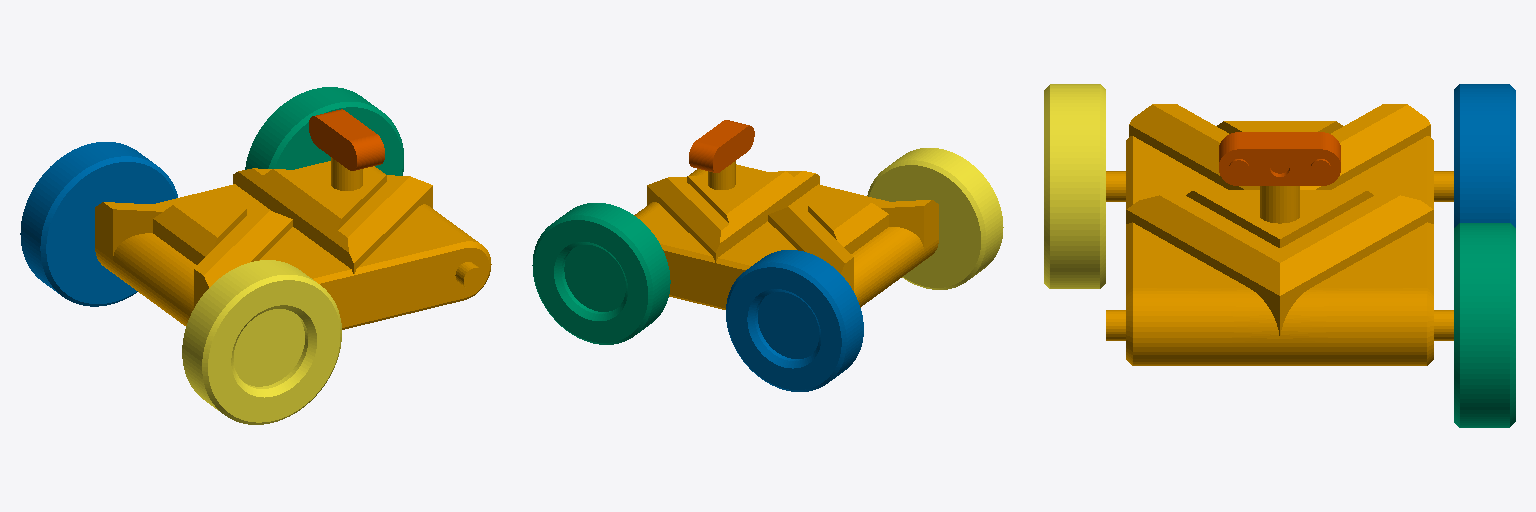
The robot description file, URDF, robot "amr":
<?xml version='1.0' encoding='utf-8'?>
<robot name="amr">
    <link name="base_link">
        <inertial>
            <origin xyz="-0.004351267108603693 -2.5010522091502847e-16 0.008281830778488642" rpy="0.0 0.0 0.0" />
            <mass value="0.9360217886690454" />
            <inertia ixx="0.009459041504582138" iyy="0.013956118845845198" izz="0.020474384137866695" ixy="5.096082182149493e-17" iyz="6.777214071700385e-17" ixz="0.00014505282040201085" />
        </inertial>
        <visual name="base_link_visual">
            <origin xyz="0.0 0.0 0.0" rpy="0.0 0.0 0.0" />
            <geometry>
                <mesh filename="package://amr_description/meshes/base_link.stl" scale="0.001 0.001 0.001" />
            </geometry>
        </visual>
        <collision name="base_link_collision">
            <origin xyz="0.0 0.0 0.0" rpy="0.0 0.0 0.0" />
            <geometry>
                <mesh filename="package://amr_description/meshes/base_link.stl" scale="0.001 0.001 0.001" />
            </geometry>
        </collision>
    </link>
    <link name="f_wheel_r">
        <inertial>
            <origin xyz="-1.7763568394002505e-17 -4.440892098500626e-18 0.026235066114433145" rpy="0.0 -0.0 0.0" />
            <mass value="1.3127916188565099" />
            <inertia ixx="0.003348709408788453" iyy="0.0033487094087883557" izz="0.0060726776588351" ixy="-1.6263032587282567e-18" iyz="2.710505431213761e-18" ixz="0.0" />
        </inertial>
        <visual name="f_wheel_r_visual">
            <origin xyz="-0.15 0.0025 -0.15937500000000002" rpy="-1.5707963267948966 -0.0 0.0" />
            <geometry>
                <mesh filename="package://amr_description/meshes/f_wheel_r.stl" scale="0.001 0.001 0.001" />
            </geometry>
        </visual>
        <collision name="f_wheel_r_collision">
            <origin xyz="-0.15 0.0025 -0.15937500000000002" rpy="-1.5707963267948966 -0.0 0.0" />
            <geometry>
                <mesh filename="package://amr_description/meshes/f_wheel_r.stl" scale="0.001 0.001 0.001" />
            </geometry>
        </collision>
    </link>
    <link name="f_wheel_l">
        <inertial>
            <origin xyz="-3.552713678800501e-17 1.6653345369377347e-17 0.02623506611443311" rpy="0.0 -0.0 0.0" />
            <mass value="1.3127916188565103" />
            <inertia ixx="0.0033487094087884667" iyy="0.0033487094087883695" izz="0.00607267765883511" ixy="-1.3010426069826053e-18" iyz="-4.336808689942018e-19" ixz="-1.3877787807814457e-17" />
        </inertial>
        <visual name="f_wheel_l_visual">
            <origin xyz="-0.15 -0.0025 -0.15937500000000002" rpy="1.5707963267948966 -0.0 0.0" />
            <geometry>
                <mesh filename="package://amr_description/meshes/f_wheel_l.stl" scale="0.001 0.001 0.001" />
            </geometry>
        </visual>
        <collision name="f_wheel_l_collision">
            <origin xyz="-0.15 -0.0025 -0.15937500000000002" rpy="1.5707963267948966 -0.0 0.0" />
            <geometry>
                <mesh filename="package://amr_description/meshes/f_wheel_l.stl" scale="0.001 0.001 0.001" />
            </geometry>
        </collision>
    </link>
    <link name="b_wheel_r">
        <inertial>
            <origin xyz="1.7763568394002505e-17 -1.6653345369377347e-17 0.026235066114433145" rpy="0.0 -0.0 0.0" />
            <mass value="1.31279161885651" />
            <inertia ixx="0.0033487094087884667" iyy="0.0033487094087883695" izz="0.006072677658835093" ixy="-2.6020852139652106e-18" iyz="4.336808689942018e-19" ixz="6.938893903907228e-18" />
        </inertial>
        <visual name="b_wheel_r_visual">
            <origin xyz="0.15 0.0025 -0.15937500000000002" rpy="-1.5707963267948966 -0.0 0.0" />
            <geometry>
                <mesh filename="package://amr_description/meshes/b_wheel_r.stl" scale="0.001 0.001 0.001" />
            </geometry>
        </visual>
        <collision name="b_wheel_r_collision">
            <origin xyz="0.15 0.0025 -0.15937500000000002" rpy="-1.5707963267948966 -0.0 0.0" />
            <geometry>
                <mesh filename="package://amr_description/meshes/b_wheel_r.stl" scale="0.001 0.001 0.001" />
            </geometry>
        </collision>
    </link>
    <link name="b_wheel_l">
        <inertial>
            <origin xyz="1.7763568394002505e-17 2.997602166487923e-17 0.026235066114433145" rpy="0.0 -0.0 0.0" />
            <mass value="1.31279161885651" />
            <inertia ixx="0.0033487094087884736" iyy="0.0033487094087883557" izz="0.0060726776588351065" ixy="-1.0842021724855044e-19" iyz="2.2768245622195593e-18" ixz="0.0" />
        </inertial>
        <visual name="b_wheel_l_visual">
            <origin xyz="0.15 -0.0025 -0.15937500000000002" rpy="1.5707963267948966 -0.0 0.0" />
            <geometry>
                <mesh filename="package://amr_description/meshes/b_wheel_l.stl" scale="0.001 0.001 0.001" />
            </geometry>
        </visual>
        <collision name="b_wheel_l_collision">
            <origin xyz="0.15 -0.0025 -0.15937500000000002" rpy="1.5707963267948966 -0.0 0.0" />
            <geometry>
                <mesh filename="package://amr_description/meshes/b_wheel_l.stl" scale="0.001 0.001 0.001" />
            </geometry>
        </collision>
    </link>
    <link name="camera_link">
        <inertial>
            <origin xyz="0.000784181248604554 -1.5090743243271368e-13 0.018750000000000037" rpy="0.0 -0.0 0.0" />
            <mass value="0.03705472598311712" />
            <inertia ixx="4.725459659822421e-05" iyy="1.3979668961784848e-05" izz="4.822081110235731e-05" ixy="8.065807004281012e-17" iyz="-8.66151594899114e-21" ixz="0.0" />
        </inertial>
        <visual name="camera_link_visual">
            <origin xyz="-0.07187533333333333 1.1102230246251566e-18 -0.11" rpy="0.0 -0.0 0.0" />
            <geometry>
                <mesh filename="package://amr_description/meshes/camera_link.stl" scale="0.001 0.001 0.001" />
            </geometry>
        </visual>
        <collision name="camera_link_collision">
            <origin xyz="-0.07187533333333333 1.1102230246251566e-18 -0.11" rpy="0.0 -0.0 0.0" />
            <geometry>
                <mesh filename="package://amr_description/meshes/camera_link.stl" scale="0.001 0.001 0.001" />
            </geometry>
        </collision>
    </link>
    <link name="lidar_link">
        <inertial>
            <origin xyz="-3.335866296317086e-17 6.004559333370755e-17 0.015000000000000045" rpy="0.0 -0.0 0.0" />
            <mass value="0.33441151294791577" />
            <inertia ixx="0.00029211638344078025" iyy="0.00029211638344079304" izz="0.00048586532053086567" ixy="8.031975085032165e-19" iyz="-7.083755804160312e-19" ixz="9.091749575418355e-19" />
        </inertial>
        <visual name="lidar_link_visual">
            <origin xyz="0.0 0.0 -0.0475" rpy="3.141592653589793 -0.0 0.0" />
            <geometry>
                <mesh filename="package://amr_description/meshes/lidar_link.stl" scale="0.001 0.001 0.001" />
            </geometry>
        </visual>
        <collision name="lidar_link_collision">
            <origin xyz="0.0 0.0 -0.0475" rpy="3.141592653589793 -0.0 0.0" />
            <geometry>
                <mesh filename="package://amr_description/meshes/lidar_link.stl" scale="0.001 0.001 0.001" />
            </geometry>
        </collision>
    </link>
    <joint name="f_wheel_r_revolute" type="continuous">
        <origin xyz="0.15 -0.15937500000000002 -0.0025" rpy="1.5707963267948966 -0.0 0.0" />
        <parent link="base_link" />
        <child link="f_wheel_r" />
        <axis xyz="0.0 0.0 1.0" />
        <dynamics damping="0.1" friction="0.1"/>
    </joint>
    <joint name="f_wheel_l_revolute" type="continuous">
        <origin xyz="0.15 0.15937500000000002 -0.0025" rpy="-1.5707963267948966 -0.0 0.0" />
        <parent link="base_link" />
        <child link="f_wheel_l" />
        <axis xyz="0.0 0.0 1.0" />
        <dynamics damping="0.1" friction="0.1"/>
    </joint>
    <joint name="b_wheel_l_revolute" type="continuous">
        <origin xyz="-0.15 0.15937500000000002 -0.0025" rpy="-1.5707963267948966 -0.0 0.0" />
        <parent link="base_link" />
        <child link="b_wheel_l" />
        <axis xyz="0.0 0.0 1.0" />
        <dynamics damping="0.1" friction="0.1"/>
    </joint>
    <joint name="b_wheel_r_revolute" type="continuous">
        <origin xyz="-0.15 -0.15937500000000002 -0.0025" rpy="1.5707963267948966 -0.0 0.0" />
        <parent link="base_link" />
        <child link="b_wheel_r" />
        <axis xyz="0.0 0.0 1.0" />
        <dynamics damping="0.1" friction="0.1"/>
    </joint>
    <joint name="camera_rotation" type="revolute">
        <origin xyz="0.07187500000000001 0.0 0.11" rpy="0.0 -0.0 0.0" />
        <parent link="base_link" />
        <child link="camera_link" />
        <axis xyz="0.0 0.0 1.0" />
        <limit lower="-1.5707963267948966" upper="1.5707963267948966" effort="100" velocity="1.0"/>
    </joint>
    <joint name="lidar_rotation" type="continuous">
        <origin xyz="0.0 0.0 -0.0475" rpy="3.141592653589793 -0.0 0.0" />
        <parent link="base_link" />
        <child link="lidar_link" />
        <axis xyz="0.0 0.0 1.0" />
    </joint>
</robot>

--- Render facts (derived) ---
Views: 3 orthographic renders of the robot side by side, from view 1: azimuth 30°, elevation 25°; view 2: azimuth 150°, elevation 25°; view 3: azimuth 270°, elevation 25°.
Model amr with 7 links and 6 joints (1 revolute, 5 continuous), rooted at base_link, posed every joint at zero.
Links seen in each view (by area): view 1: base_link, b_wheel_r, b_wheel_l, f_wheel_l, camera_link; view 2: base_link, b_wheel_l, f_wheel_l, b_wheel_r, camera_link; view 3: base_link, f_wheel_l, b_wheel_r, b_wheel_l, camera_link.
Link boxes in pixels (x1,y1,x2,y2): base_link: [95, 157, 491, 329]; b_wheel_r: [182, 260, 341, 424]; b_wheel_l: [20, 142, 177, 306]; f_wheel_l: [245, 87, 403, 175]; camera_link: [309, 109, 384, 170]; base_link: [634, 161, 938, 309]; b_wheel_l: [726, 250, 863, 391]; f_wheel_l: [532, 203, 670, 344]; b_wheel_r: [867, 148, 1003, 289]; camera_link: [689, 120, 754, 172]; base_link: [1106, 104, 1453, 365]; f_wheel_l: [1454, 223, 1515, 427]; b_wheel_r: [1044, 84, 1105, 288]; b_wheel_l: [1454, 84, 1515, 227]; camera_link: [1219, 132, 1340, 185].
Size in the robot's own frame: 0.4875 by 0.4313 by 0.2437 metres.
7 mesh visuals loaded from 7 distinct referenced files (7 binary STL).
